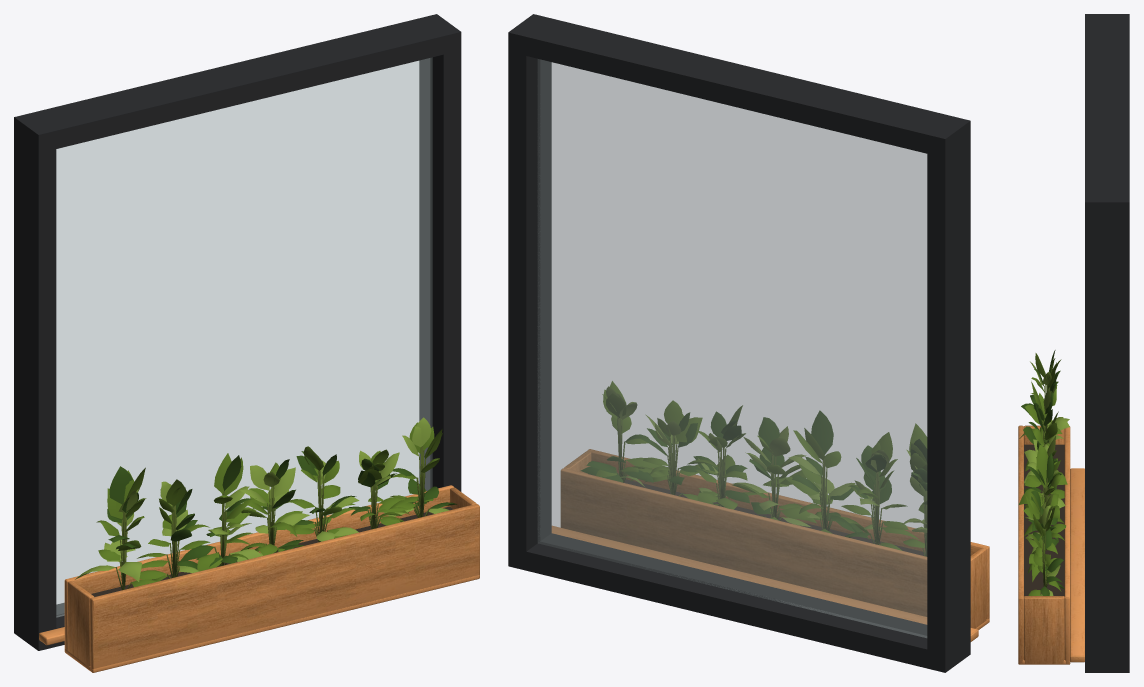
Rendered from architecture.window-with-planters.glb.
3 views of the same model, side by side, from view 1: azimuth 30°, elevation 25°; view 2: azimuth 150°, elevation 25°; view 3: azimuth 270°, elevation 25° (orthographic). The views are drawn at different scales.
Visible parts, largest first — view 1: architecture.window-with-planters.001; view 2: architecture.window-with-planters.001; view 3: architecture.window-with-planters.001.
Part boxes in pixels (left/top/right/bottom): architecture.window-with-planters.001: left=14, top=14, right=479, bottom=672; architecture.window-with-planters.001: left=508, top=14, right=989, bottom=672; architecture.window-with-planters.001: left=1018, top=14, right=1129, bottom=672.
Bounding box in the file's own units: 1.2 × 1.4 × 0.3.
8 materials, 1 textured.
